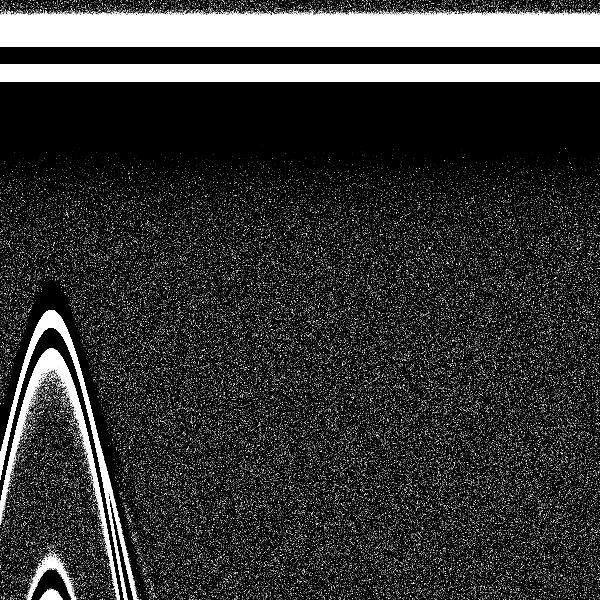pipe: (6, 7, 97, 391)
